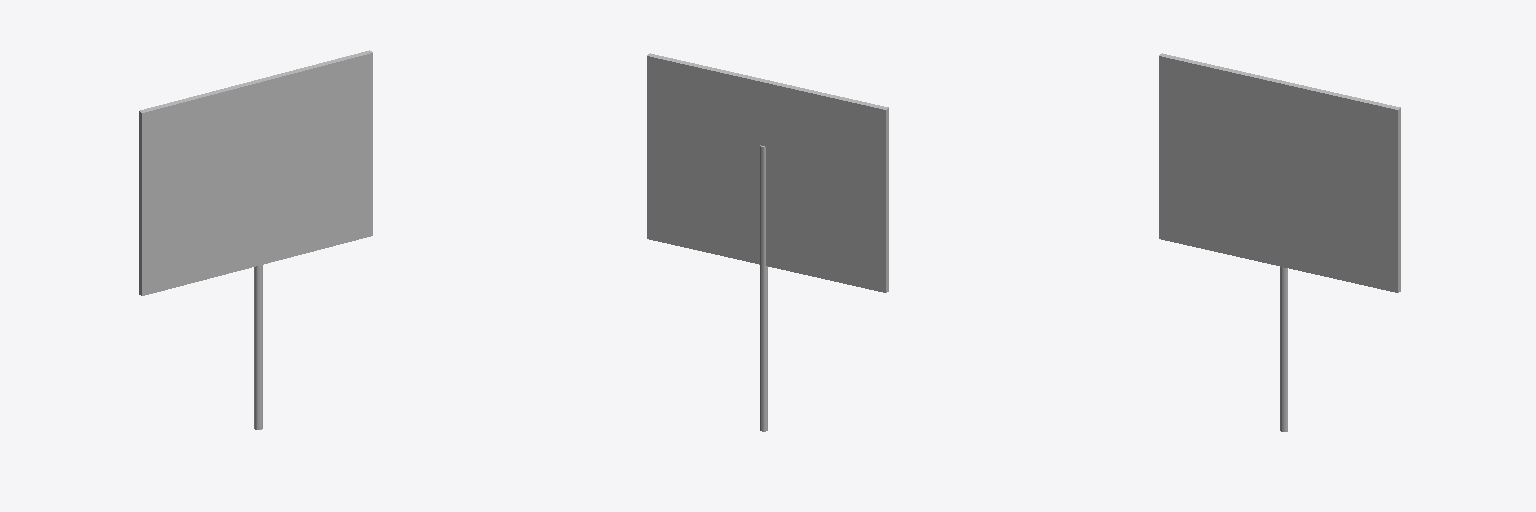
File: board_18.obj
3 renders of one model, left to right at view 1: azimuth 30°, elevation 25°; view 2: azimuth 150°, elevation 25°; view 3: azimuth 330°, elevation 25°, orthographic.
Visible parts, largest first — view 1: Cube.023_Cube.024, Cylinder.023; view 2: Cube.023_Cube.024, Cylinder.023; view 3: Cube.023_Cube.024, Cylinder.023.
Boxes of the visible parts, x1,y1,x2,y2 form: Cube.023_Cube.024: [139, 50, 372, 295]; Cylinder.023: [254, 265, 262, 429]; Cube.023_Cube.024: [647, 53, 888, 292]; Cylinder.023: [760, 145, 767, 431]; Cube.023_Cube.024: [1159, 53, 1400, 292]; Cylinder.023: [1280, 267, 1287, 431].
Bounding box in the file's own units: 0.1344 × 0.19 × 0.0075.